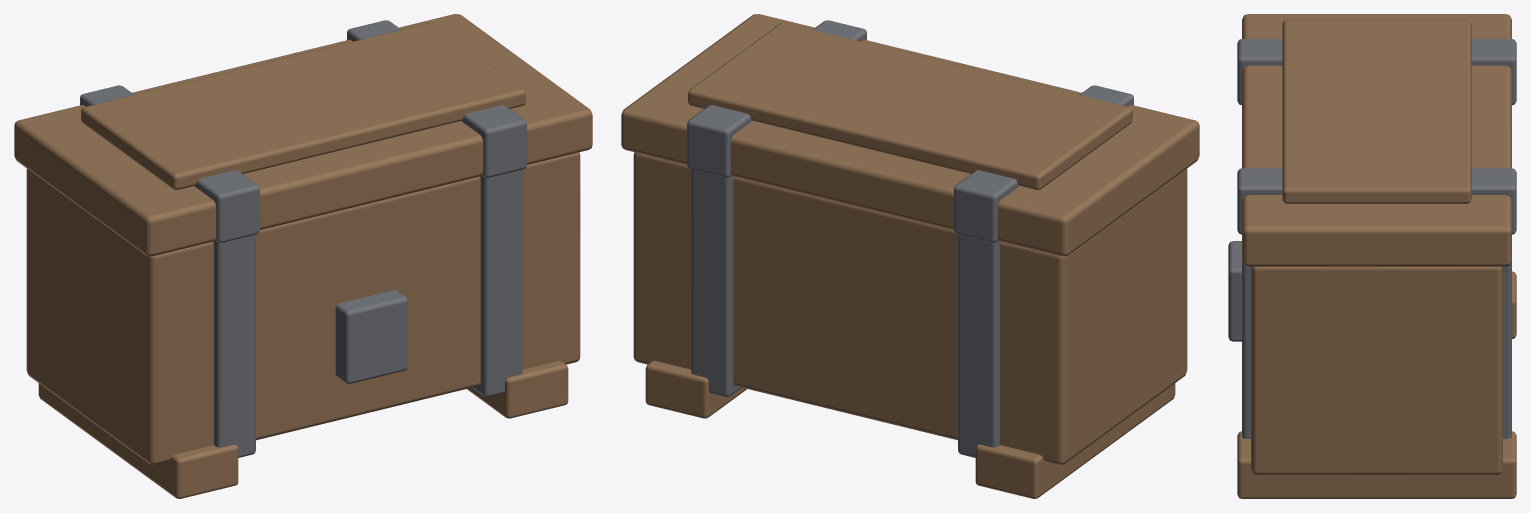
File: book-chest-c1c6462c.glb
3 renders of one model, left to right at view 1: azimuth 30°, elevation 25°; view 2: azimuth 150°, elevation 25°; view 3: azimuth 270°, elevation 25°, orthographic.
Visible parts, largest first — view 1: book-chest, lid-chest/cedar, lid-chest/iron; view 2: book-chest, lid-chest/cedar, lid-chest/iron; view 3: book-chest, lid-chest/cedar, lid-chest/iron.
Part boxes in pixels (box(x1,y1,x2,y2)): book-chest: box(26, 152, 580, 498); lid-chest/cedar: box(14, 14, 592, 256); lid-chest/iron: box(80, 20, 526, 242); book-chest: box(633, 152, 1187, 498); lid-chest/cedar: box(621, 14, 1199, 256); lid-chest/iron: box(687, 20, 1133, 242); book-chest: box(1228, 241, 1516, 498); lid-chest/cedar: box(1242, 14, 1511, 266); lid-chest/iron: box(1237, 39, 1516, 234).
Bounding box in the file's own units: 1.14 × 0.74 × 0.64.
